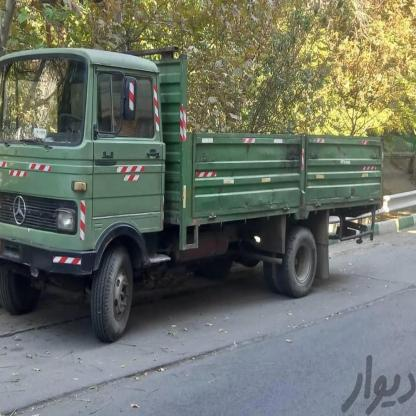Truck: (0, 46, 389, 320)
